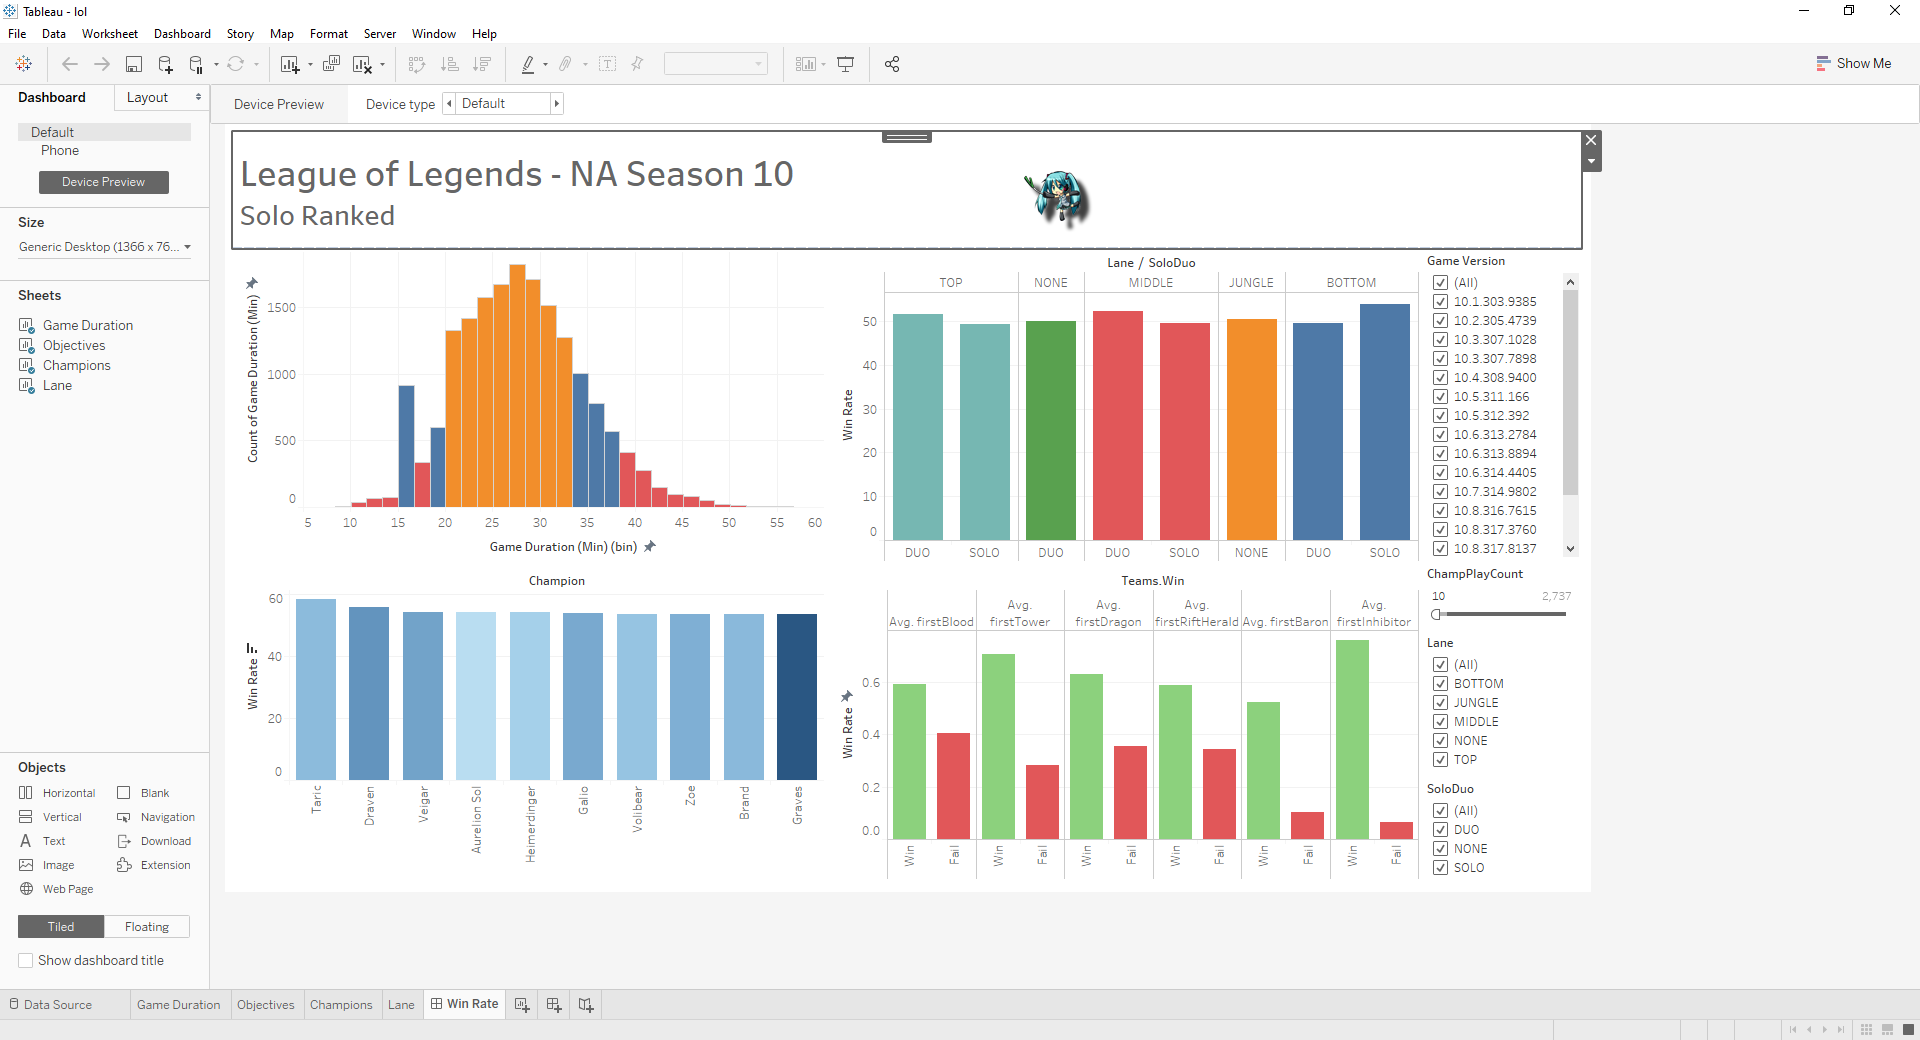

This screenshot's page, from the dashboard's own definition file:
{"tool":"tableau","page":{"name":"Win Rate","canvas":[1366,768],"ordinal":0},"visuals":[{"type":"worksheet","box":[0,0,1366,768]},{"type":"worksheet","box":[8,8,1350,116]},{"type":"worksheet","param":"horz","box":[8,124,1350,636]},{"type":"worksheet","param":"horz","box":[8,124,1190,636]},{"type":"worksheet","param":"horz","box":[8,124,1190,636]},{"type":"worksheet","box":[8,124,1190,636]},{"type":"worksheet","title":"Game Duration","mark":"Automatic","rows":["Calculation_1038924189233147906"],"cols":["Game Duration (Min) (bin)"],"box":[8,124,595,318]},{"type":"worksheet","title":"Lane","mark":"Automatic","rows":["Calculation_991073443503788032"],"cols":["participants.timeline.lane","Calculation_991073443514916870"],"box":[603,124,595,318]},{"type":"worksheet","param":"vert","box":[1198,124,160,636]},{"type":"worksheet","title":"Game Duration","mark":"Automatic","rows":["Calculation_1038924189233147906"],"cols":["Game Duration (Min) (bin)"],"param":"[federated.1cloz681rxtr4l1ban5r30ofyjdv].[none:gameVersion:nk]","box":[1198,124,160,313]},{"type":"worksheet","title":"Champions","mark":"Automatic","rows":["Calculation_991073443503788032"],"cols":["participants.championId"],"param":"[federated.1cloz681rxtr4l1ban5r30ofyjdv].[usr:Calculation_991073443504582657:qk]","box":[1198,437,160,69]},{"type":"worksheet","title":"Champions","mark":"Automatic","rows":["Calculation_991073443503788032"],"cols":["participants.championId"],"box":[8,442,595,318]},{"type":"worksheet","title":"Objectives","mark":"Automatic","cols":["teams.win (matches_teams1)"],"box":[603,442,595,318]},{"type":"worksheet","title":"Lane","mark":"Automatic","rows":["Calculation_991073443503788032"],"cols":["participants.timeline.lane","Calculation_991073443514916870"],"param":"[federated.1cloz681rxtr4l1ban5r30ofyjdv].[none:participants.timeline.lane:nk]","box":[1198,506,160,146]},{"type":"worksheet","title":"Lane","mark":"Automatic","rows":["Calculation_991073443503788032"],"cols":["participants.timeline.lane","Calculation_991073443514916870"],"param":"[federated.1cloz681rxtr4l1ban5r30ofyjdv].[none:Calculation_991073443514916870:nk","box":[1198,652,160,108]}]}

Visuals, with their boxes on the page's 1366x768 design canvas (x1, y1, x2, y2). These are canvas units, not pixel positions in the 1920x1040 screenshot, which may show the page scaled, cropped or inside an application window:
worksheet: pyautogui.locateOnScreen(0, 0, 1366, 768)
worksheet: pyautogui.locateOnScreen(8, 8, 1358, 124)
worksheet: pyautogui.locateOnScreen(8, 124, 1358, 760)
worksheet: pyautogui.locateOnScreen(8, 124, 1198, 760)
worksheet: pyautogui.locateOnScreen(8, 124, 1198, 760)
worksheet: pyautogui.locateOnScreen(8, 124, 1198, 760)
"Game Duration" worksheet: pyautogui.locateOnScreen(8, 124, 603, 442)
"Lane" worksheet: pyautogui.locateOnScreen(603, 124, 1198, 442)
worksheet: pyautogui.locateOnScreen(1198, 124, 1358, 760)
"Game Duration" worksheet: pyautogui.locateOnScreen(1198, 124, 1358, 437)
"Champions" worksheet: pyautogui.locateOnScreen(1198, 437, 1358, 506)
"Champions" worksheet: pyautogui.locateOnScreen(8, 442, 603, 760)
"Objectives" worksheet: pyautogui.locateOnScreen(603, 442, 1198, 760)
"Lane" worksheet: pyautogui.locateOnScreen(1198, 506, 1358, 652)
"Lane" worksheet: pyautogui.locateOnScreen(1198, 652, 1358, 760)
